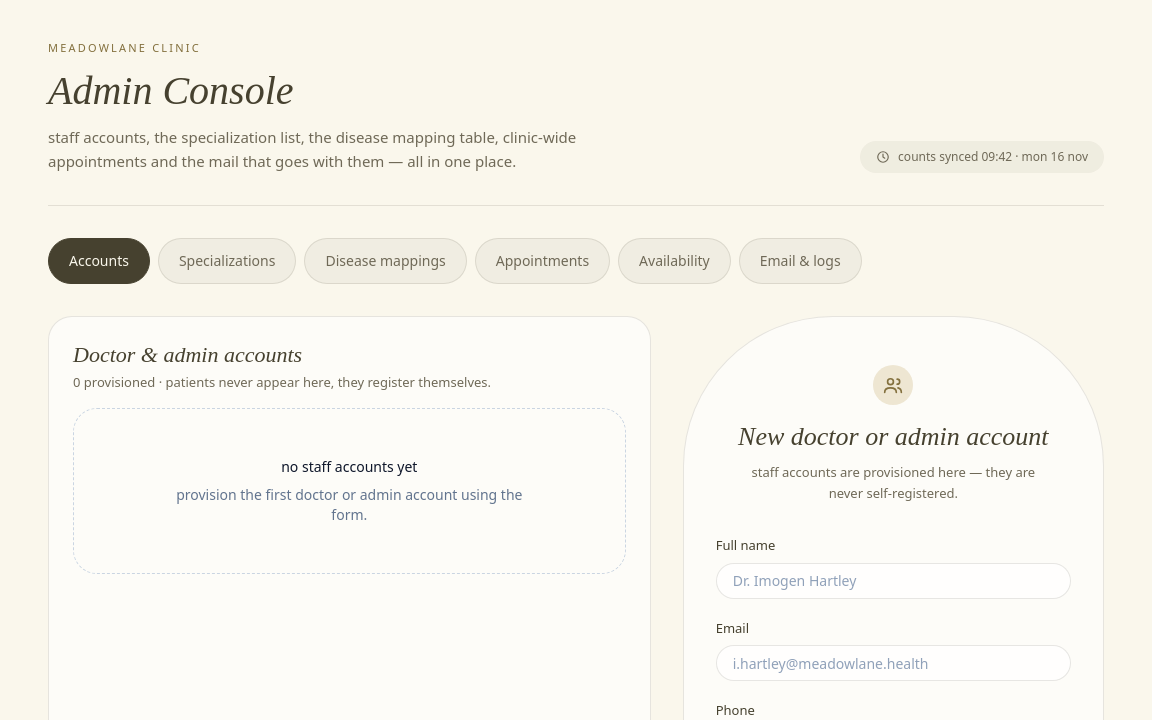
Test: AdminConsole specializations › [AC-051] deleting a specialization in use is blocked and the dependency warning is shown
This screenshot has width=1152, height=720.
Click the tab "Specializations" at coordinates (227, 261), box left=158, top=238, right=296, bottom=284
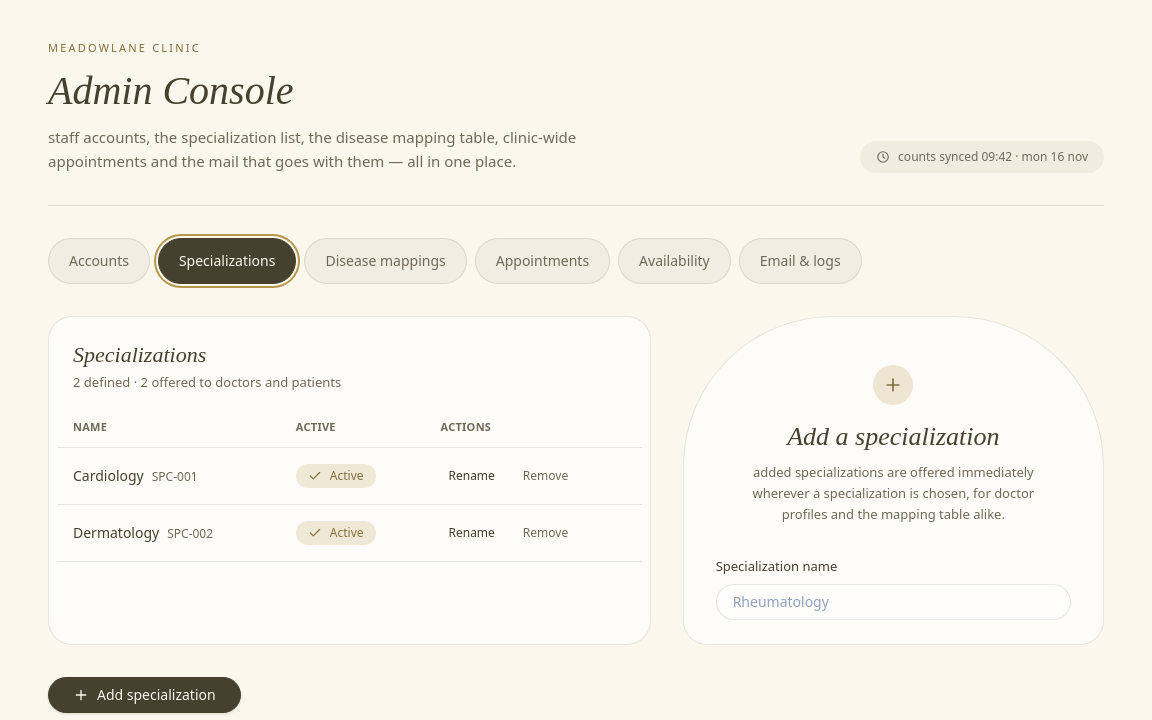
Expected: the text "Cardiology" is shown, left=73, top=466, right=144, bottom=485
Click the button named "Remove Cardiology" at coordinates (546, 476), box left=515, top=464, right=576, bottom=488
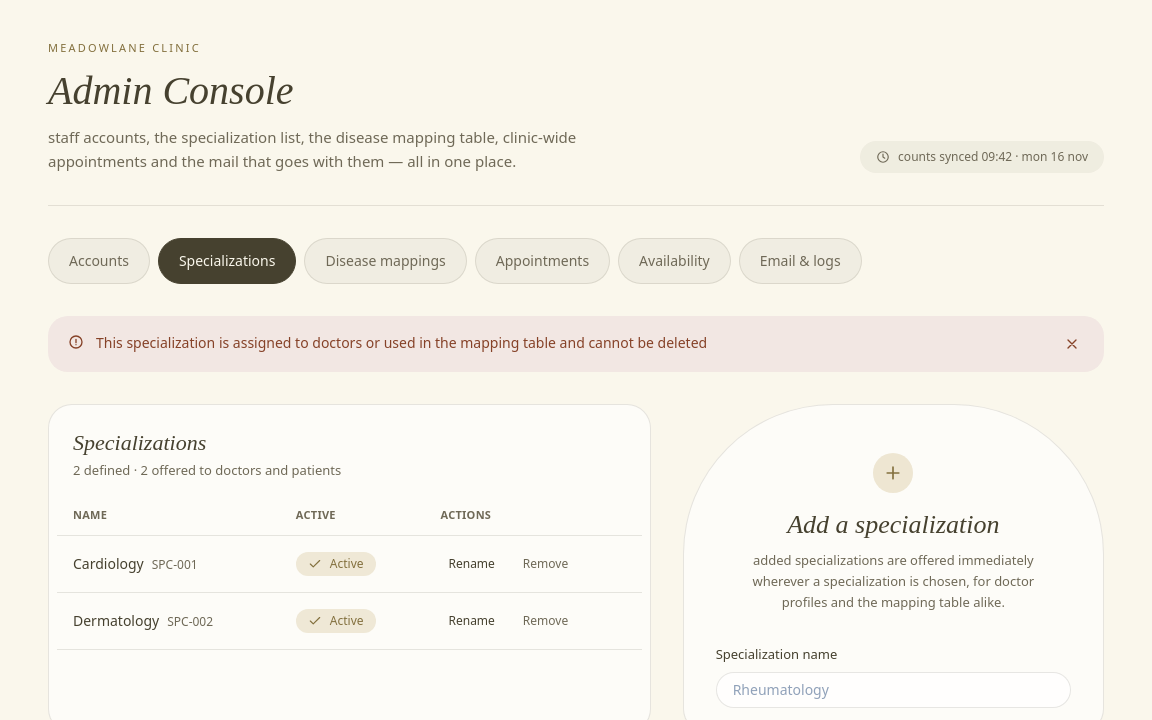
Expected: the text "Cardiology" is shown, left=73, top=554, right=144, bottom=573
Expected: the text "This specialization is assigned to doctors or used in the mapping table and cannot be deleted" is shown, left=96, top=333, right=707, bottom=352
